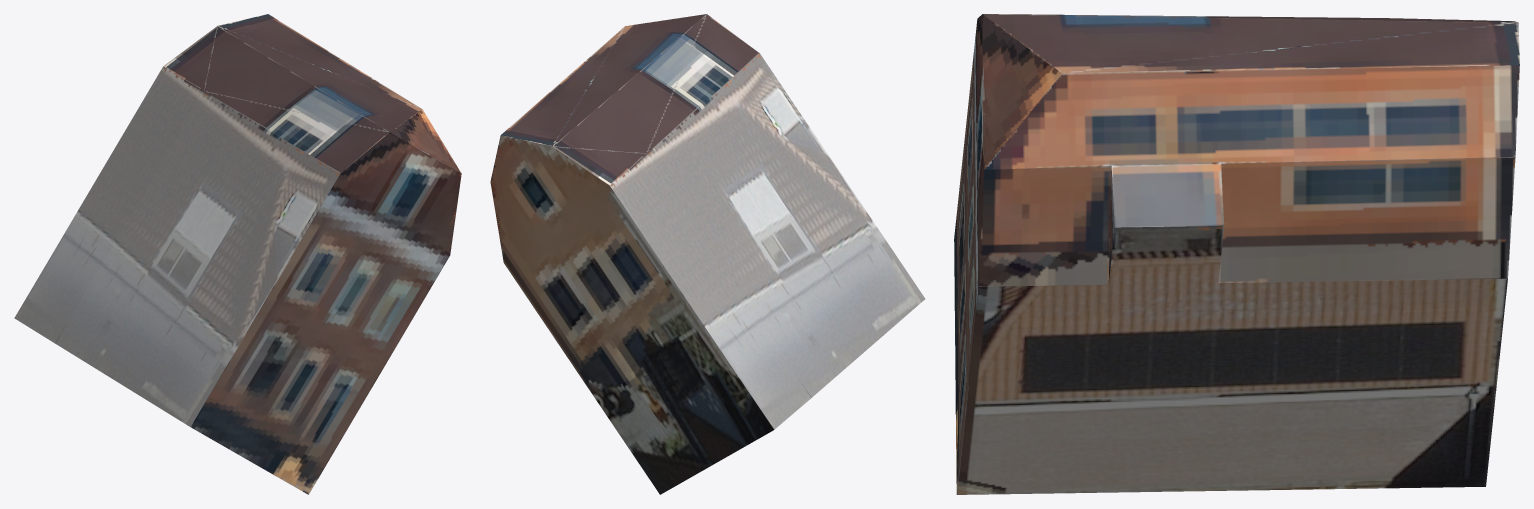
3 views of the same model, side by side, from view 1: azimuth 30°, elevation 25°; view 2: azimuth 150°, elevation 25°; view 3: azimuth 270°, elevation 25° (orthographic). The views are drawn at different scales.
Visible parts, largest first — view 1: BAG_0599100000283662 (×3); view 2: BAG_0599100000283662 (×3); view 3: BAG_0599100000283662 (×4).
Boxes of the visible parts, left/top/right/bottom form: BAG_0599100000283662 (×3): left=14, top=14, right=461, bottom=494; BAG_0599100000283662 (×3): left=490, top=14, right=925, bottom=494; BAG_0599100000283662 (×4): left=954, top=14, right=1519, bottom=494.
Size of the model in its own units: 11.01 by 11.24 by 10.32.
Materials: 5 (5 with a texture image).
